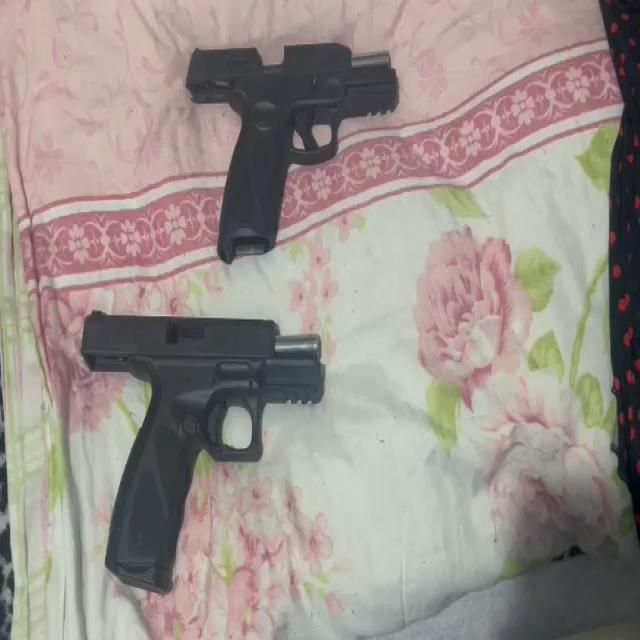gun: (80, 307, 324, 597), (185, 42, 396, 268)
